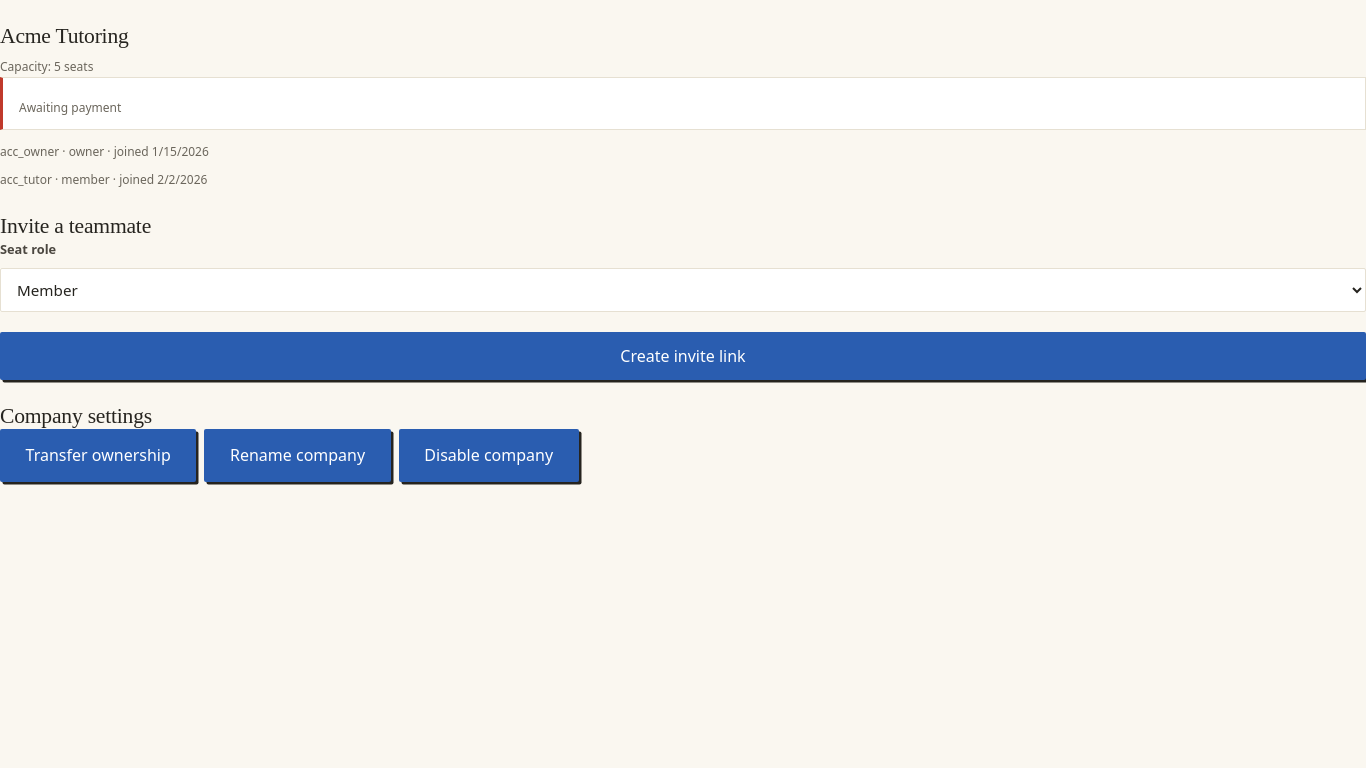
Test: CompanyAdminPanel destructive actions › shows the server error and keeps the dialog open when an action is refused
The image size is (1366, 768).
Expected: the element with test id "company-summary" is shown, left=0, top=24, right=1365, bottom=190
Click the button with test id "company-disable".
click(489, 456)  # box left=399, top=429, right=579, bottom=482
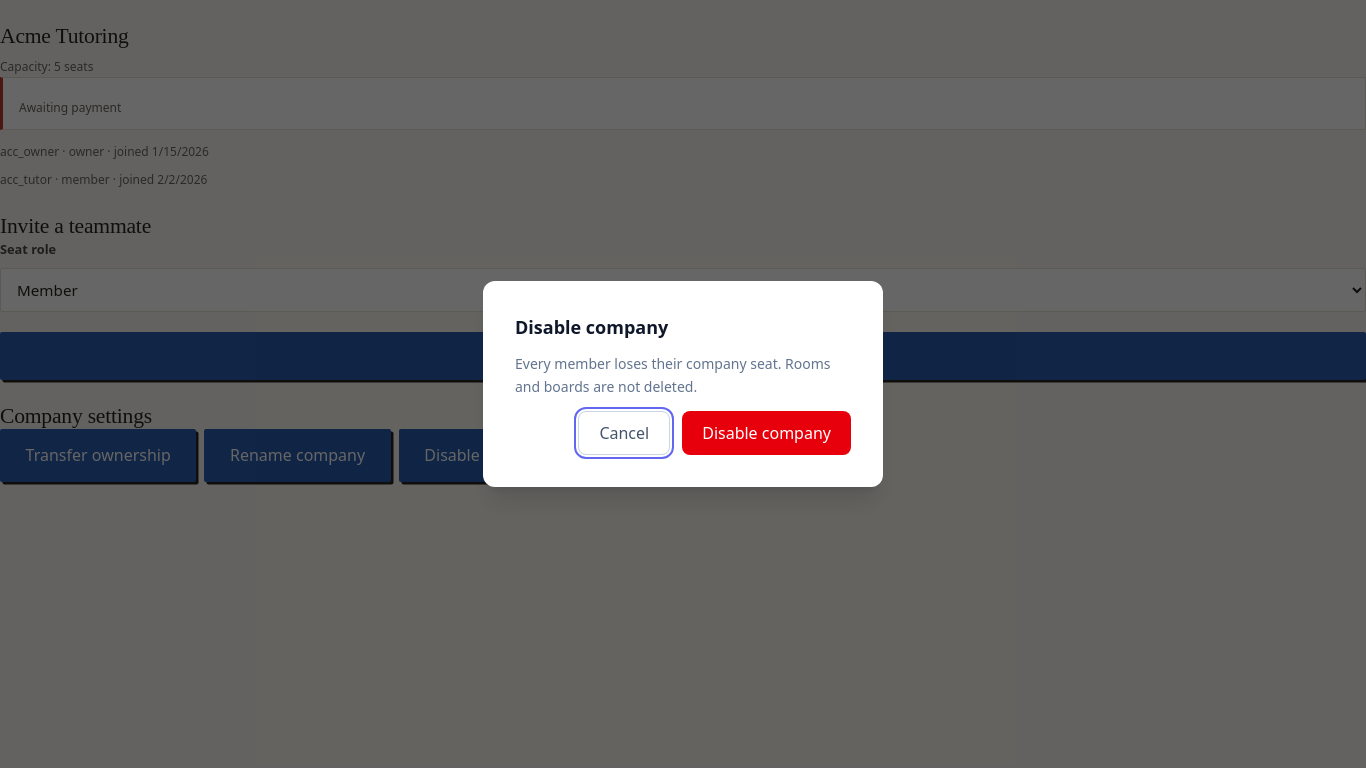
Click the button with test id "company-disable-confirm".
click(767, 433)  # box left=682, top=410, right=851, bottom=455
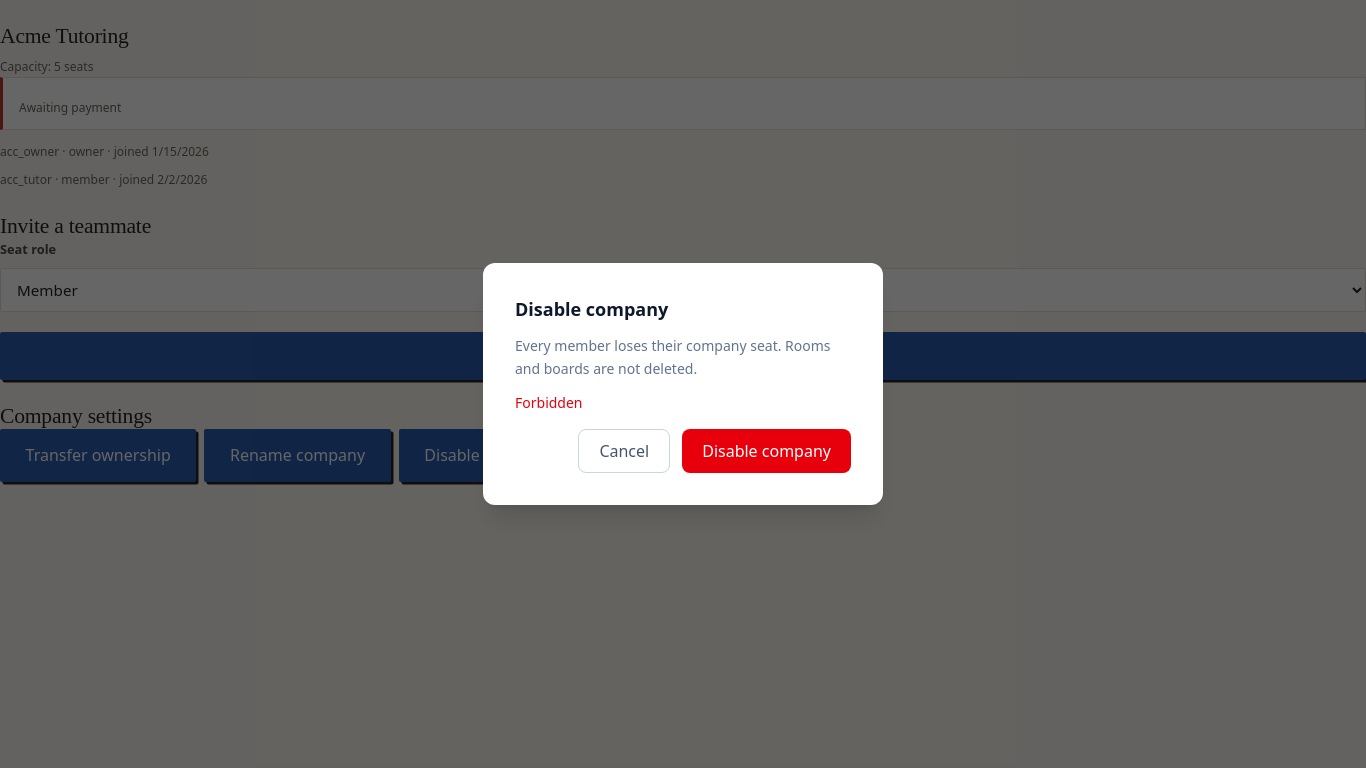
Expected: the dialog "Disable company" is shown, left=483, top=263, right=883, bottom=505
Expected: the message with test id "company-disable-error" reads "Forbidden", left=515, top=392, right=582, bottom=412
